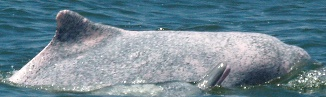fin: (7, 6, 316, 91)
